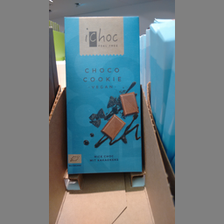chocolate: (63, 15, 147, 175)
